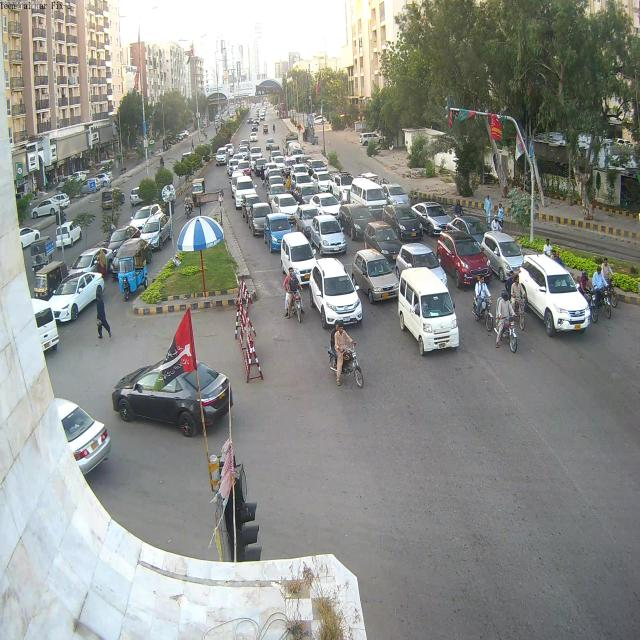car: (111, 357, 232, 438), (397, 264, 463, 356), (520, 252, 593, 335), (50, 398, 113, 473), (108, 206, 169, 270), (308, 262, 364, 326), (45, 271, 106, 323), (438, 231, 493, 286), (351, 247, 401, 302), (107, 239, 153, 298), (481, 232, 524, 278), (280, 234, 319, 284), (34, 298, 62, 354), (308, 216, 347, 255), (411, 202, 454, 237), (398, 240, 442, 272), (368, 224, 402, 262), (69, 246, 108, 279), (30, 193, 68, 223), (266, 214, 295, 253), (130, 206, 168, 233), (139, 223, 172, 249), (248, 202, 272, 236), (235, 182, 261, 212), (108, 225, 140, 249), (307, 192, 340, 215), (268, 193, 298, 218), (292, 176, 320, 202), (57, 222, 83, 248), (385, 185, 411, 207), (230, 163, 253, 180), (88, 172, 112, 188), (268, 178, 287, 196), (308, 160, 329, 176), (50, 193, 71, 207), (217, 150, 232, 165), (191, 180, 206, 195), (85, 180, 99, 195), (235, 150, 250, 163), (268, 153, 284, 165), (251, 150, 264, 164), (236, 143, 250, 155), (248, 128, 259, 142)
motorbike: (330, 322, 367, 390), (280, 263, 303, 322), (498, 290, 517, 361), (579, 270, 600, 326), (506, 272, 524, 332), (475, 272, 493, 331), (599, 266, 614, 318), (606, 258, 620, 308), (552, 248, 566, 264), (491, 214, 502, 234), (455, 199, 464, 222), (184, 194, 192, 218)
truck: (342, 177, 388, 219)
